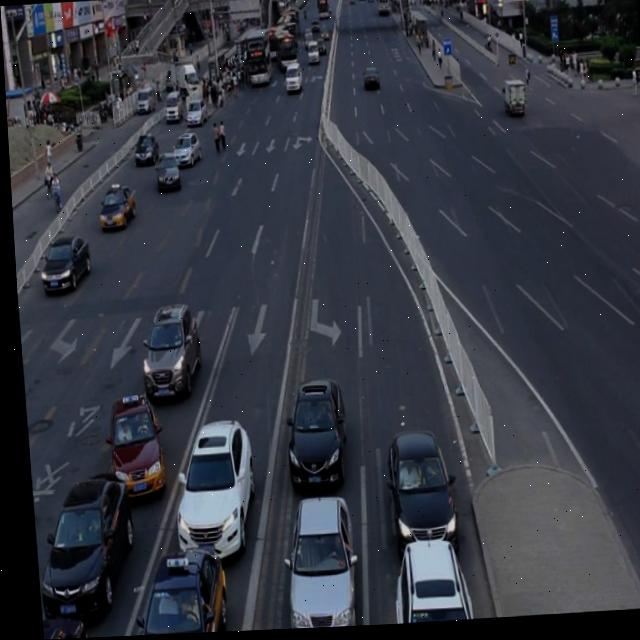car: (25, 468, 131, 622), (162, 415, 253, 564), (271, 491, 350, 631), (111, 539, 222, 637), (378, 427, 452, 559), (381, 535, 473, 627), (275, 375, 343, 492), (99, 391, 161, 501), (132, 299, 199, 400), (34, 231, 89, 294), (94, 181, 134, 233), (33, 609, 81, 640), (152, 151, 179, 194)
